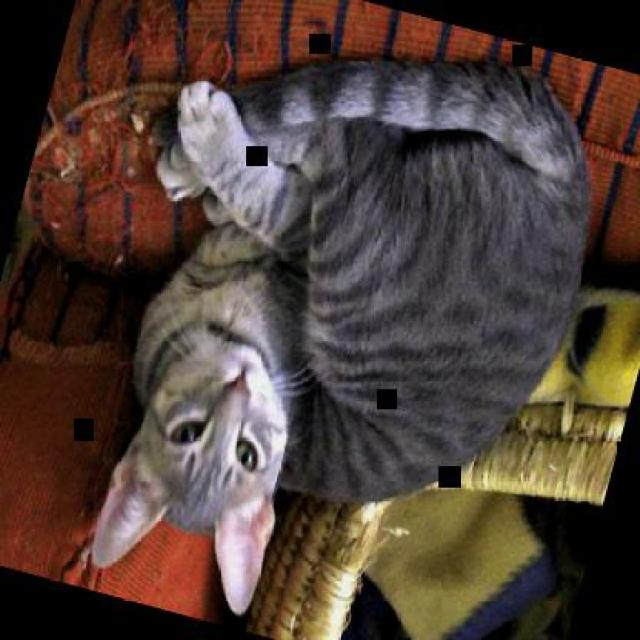cat: (46, 0, 632, 638)
